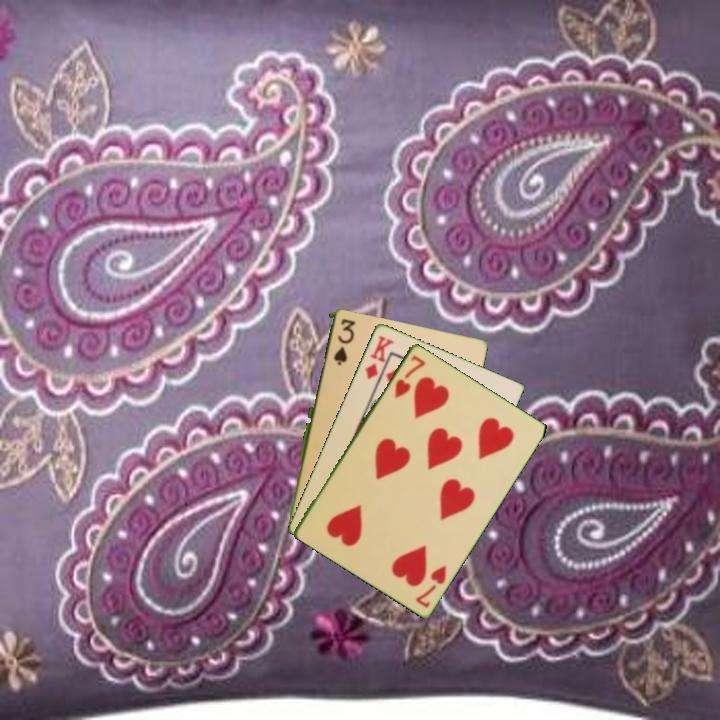3s: (330, 315, 354, 368)
7h: (391, 351, 428, 401), (412, 561, 449, 610)
Kd: (362, 331, 396, 382)
